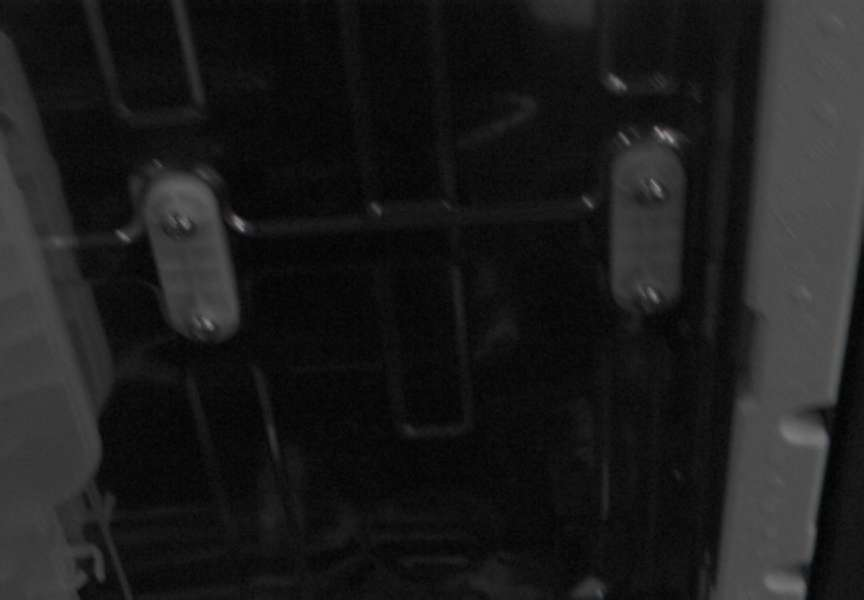screw: (635, 282, 665, 315), (635, 177, 668, 207), (161, 212, 195, 239), (189, 314, 219, 342)
